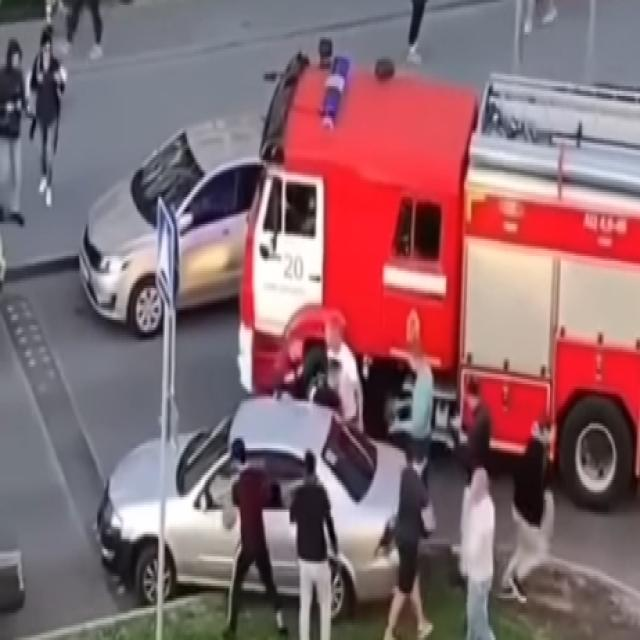fire fighting vehicle: (239, 38, 640, 510)
non emergency car: (98, 395, 420, 616), (80, 115, 267, 340)
